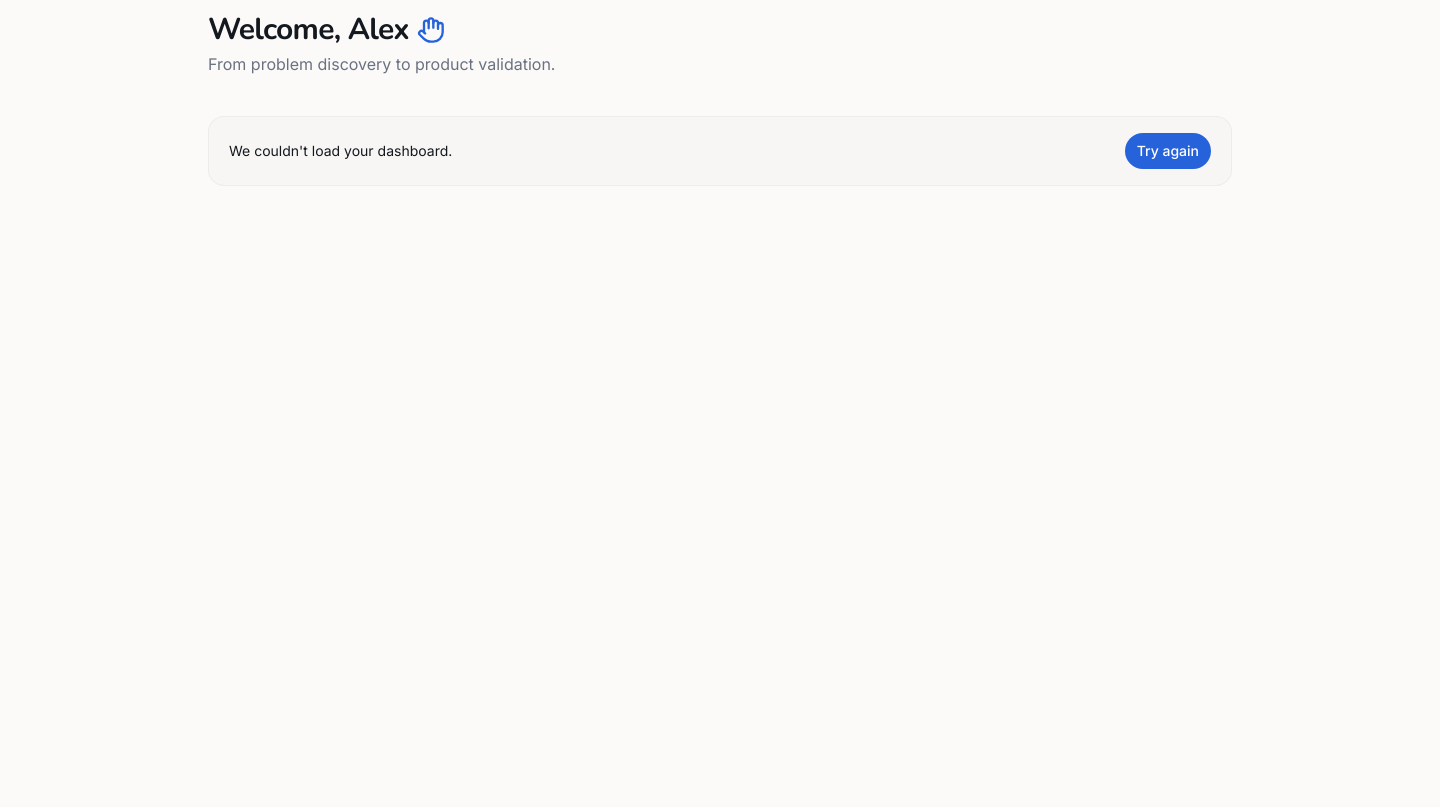
Test: Dashboard resume › shows safe error without false zeros and retries
Expected: the message shows "We couldn't load your dashboard", [229,142,452,159]
Click the button "Try again".
click(1168, 151)  # box [1125,133,1211,169]
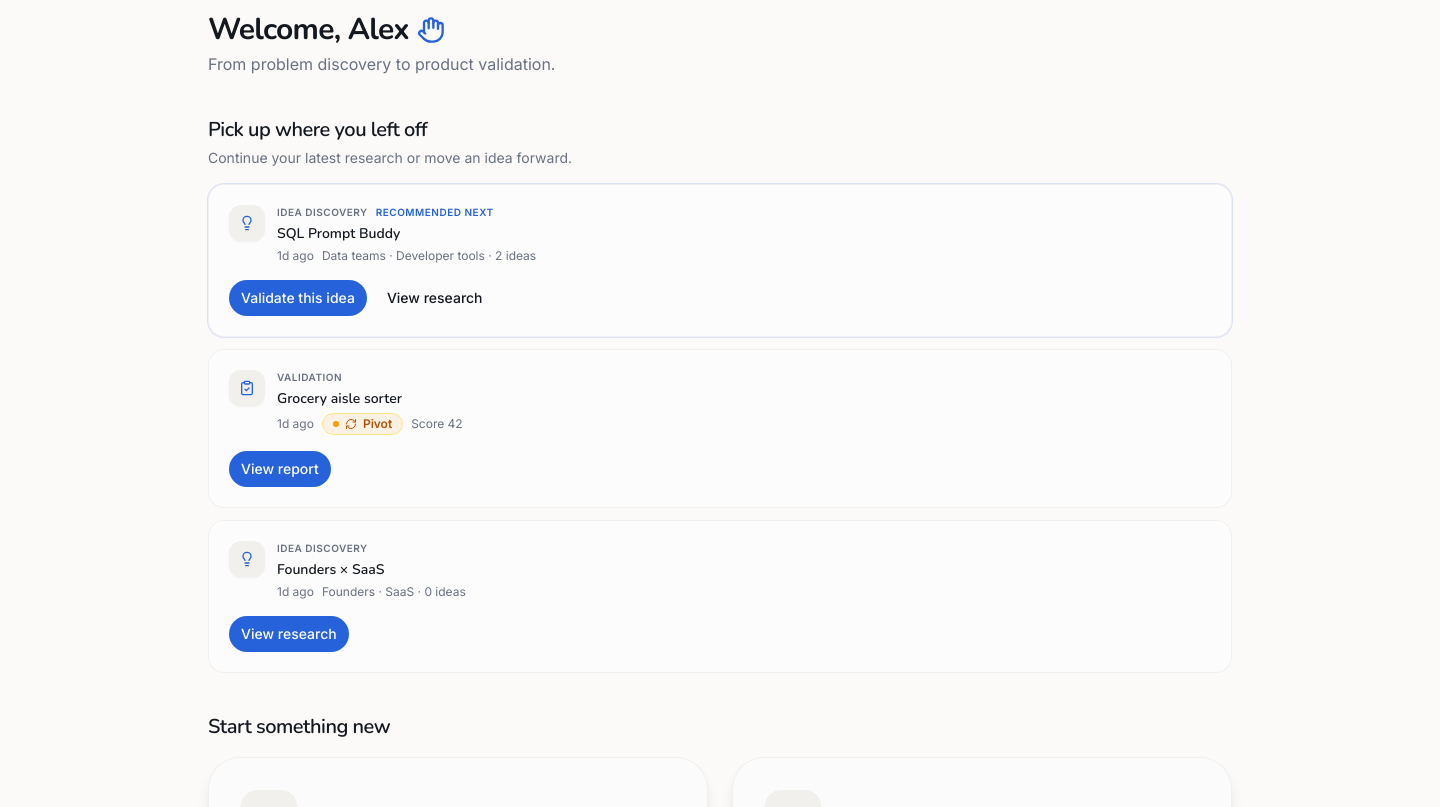
Now the heading "Pick up where you left off" is shown, box [208,116,427,143]
